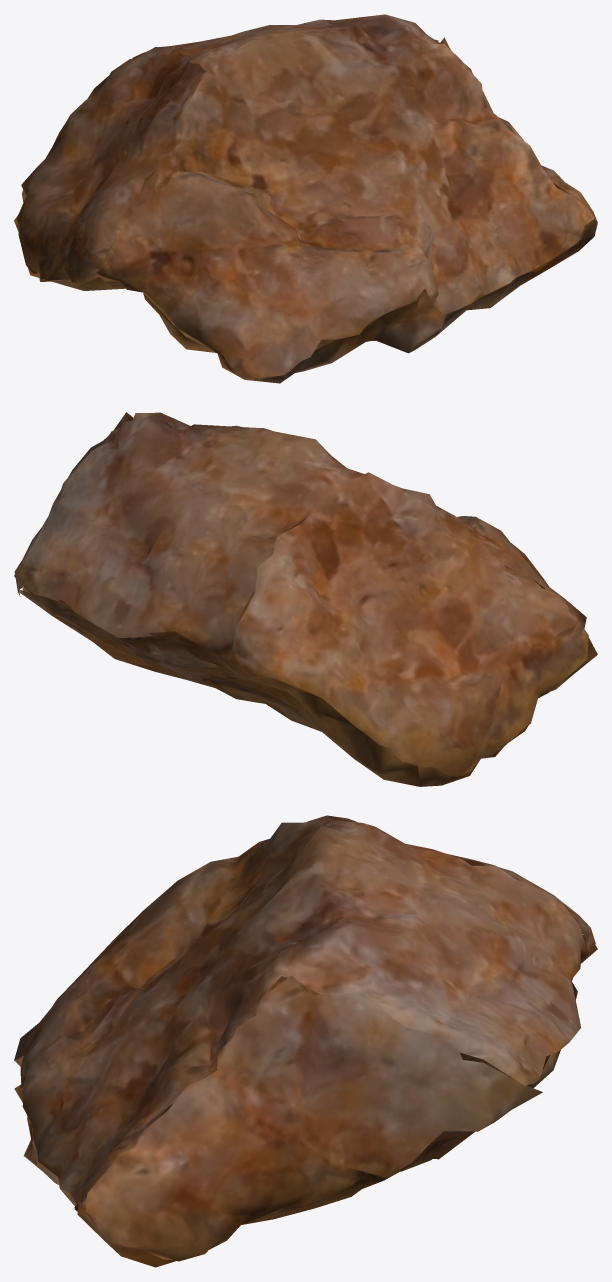
File: namaqualand_stones_01_0.gltf
3 renders of one model, top to bottom at view 1: azimuth 30°, elevation 25°; view 2: azimuth 150°, elevation 25°; view 3: azimuth 270°, elevation 25°, orthographic. The views are drawn at different scales.
Parts seen in each view (by area): view 1: namaqualand_stones_01_a; view 2: namaqualand_stones_01_a; view 3: namaqualand_stones_01_a.
Part boxes in pixels (<box>): namaqualand_stones_01_a: <box>14,14,597,383</box>; namaqualand_stones_01_a: <box>14,412,597,786</box>; namaqualand_stones_01_a: <box>14,815,597,1267</box>.
Bounding box in the file's own units: 0.0774 × 0.0378 × 0.0634.
1 material, 1 textured.
